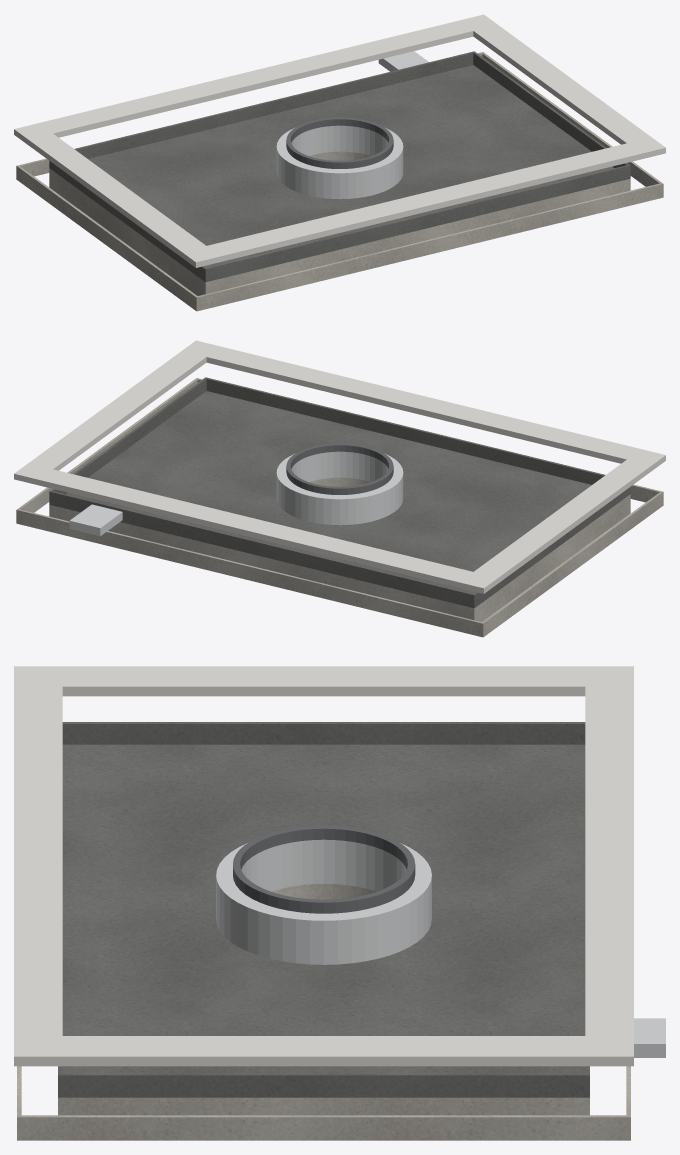
Rendered from ph_roof.glb.
3 renders of one model, top to bottom at view 1: azimuth 30°, elevation 25°; view 2: azimuth 150°, elevation 25°; view 3: azimuth 270°, elevation 25°, orthographic. The views are drawn at different scales.
Parts seen in each view (by area): view 1: ph_roof_membrane, ph_roof_coping, ph_roof_concrete, ph_roof_galv, ph_roof_iron; view 2: ph_roof_membrane, ph_roof_coping, ph_roof_concrete, ph_roof_galv, ph_roof_iron; view 3: ph_roof_membrane, ph_roof_coping, ph_roof_concrete, ph_roof_galv, ph_roof_iron.
Boxes of the visible parts, box(x1,y1,x2,y2) form: ph_roof_membrane: box(49, 51, 630, 282); ph_roof_coping: box(14, 14, 665, 267); ph_roof_concrete: box(16, 52, 663, 311); ph_roof_galv: box(276, 51, 428, 199); ph_roof_iron: box(286, 117, 393, 168); ph_roof_membrane: box(49, 377, 630, 608); ph_roof_coping: box(14, 340, 665, 593); ph_roof_concrete: box(16, 378, 663, 637); ph_roof_galv: box(69, 451, 403, 536); ph_roof_iron: box(286, 443, 393, 494); ph_roof_membrane: box(58, 722, 589, 1097); ph_roof_coping: box(14, 666, 633, 1066); ph_roof_concrete: box(17, 884, 630, 1140); ph_roof_galv: box(216, 839, 665, 1057); ph_roof_iron: box(233, 825, 415, 913).
Size of the model in its own units: 6.08 by 0.71 by 4.29.
6 materials, 2 textured.
